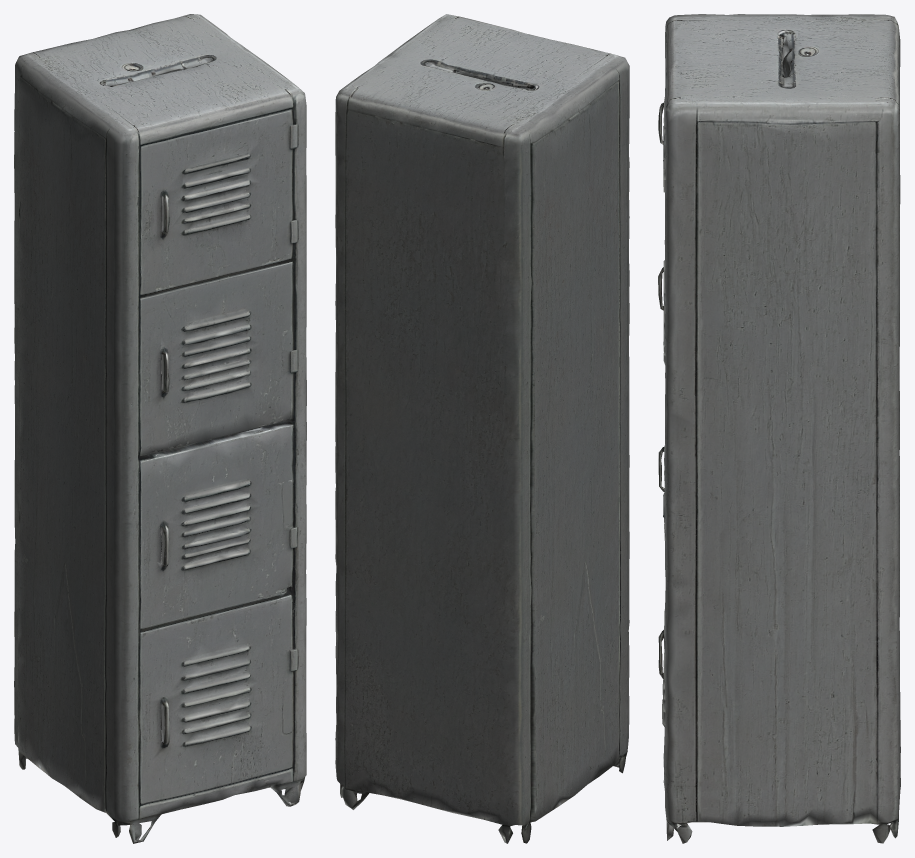
Rendered from locker.glb.
3 views of the same model, side by side, from view 1: azimuth 30°, elevation 25°; view 2: azimuth 150°, elevation 25°; view 3: azimuth 270°, elevation 25° (orthographic). The views are drawn at different scales.
Visible parts, largest first — view 1: texture_mapping; view 2: texture_mapping; view 3: texture_mapping.
Part boxes in pixels (left/top/right/bottom): texture_mapping: left=14, top=14, right=306, bottom=843; texture_mapping: left=335, top=14, right=629, bottom=843; texture_mapping: left=658, top=14, right=900, bottom=843.
Bounding box in the file's own units: 0.2937 × 0.9952 × 0.2948.
1 material, 1 textured.
